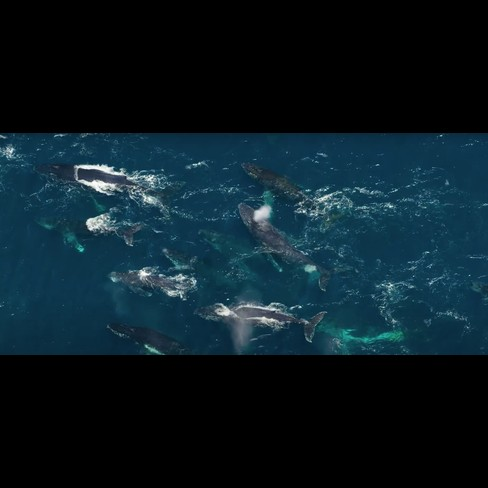hump: (236, 201, 346, 293), (241, 157, 362, 236), (36, 159, 182, 216), (195, 298, 331, 352), (31, 204, 144, 255), (96, 261, 197, 302), (104, 320, 190, 355)
